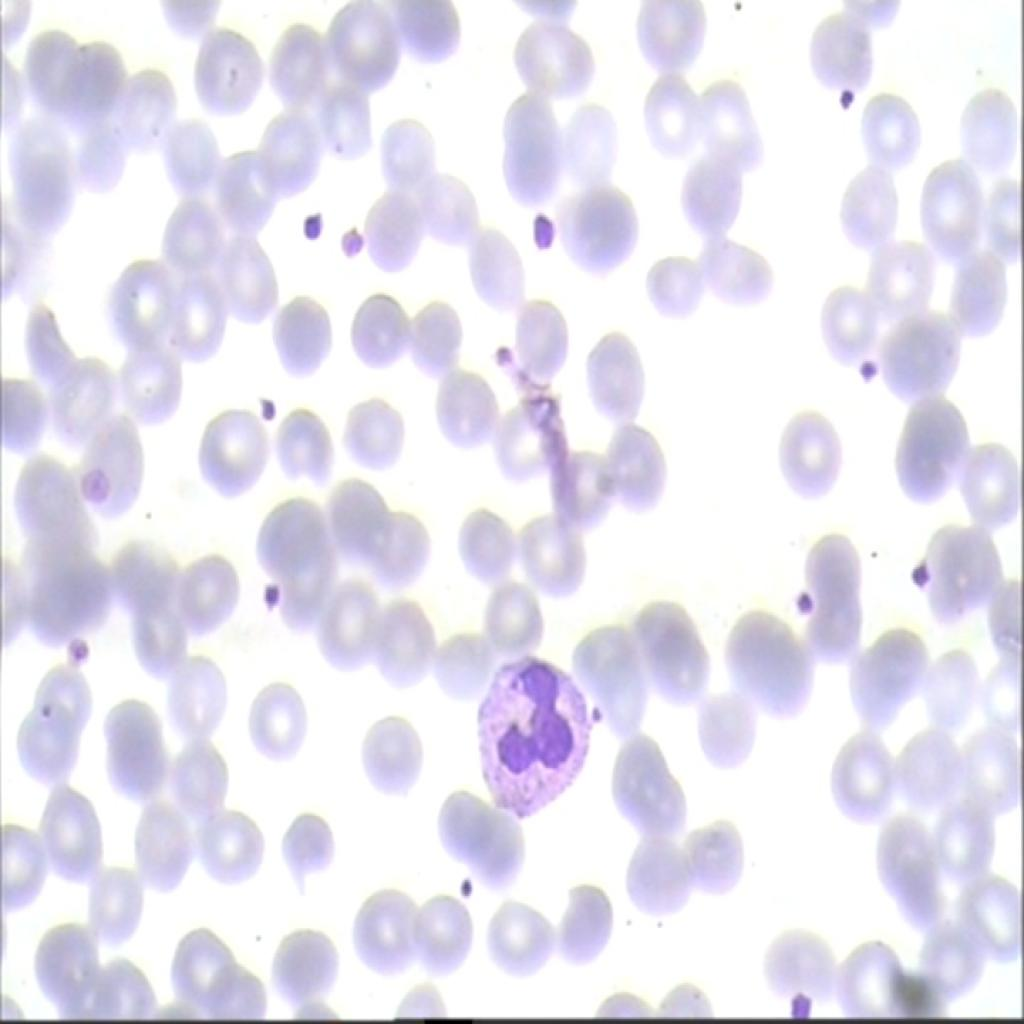Neutrofil: (471, 647, 589, 827)
Platelet: (54, 620, 97, 684), (244, 562, 284, 622), (74, 473, 112, 519), (530, 206, 559, 258), (336, 218, 372, 258), (445, 866, 472, 919), (906, 553, 934, 603), (855, 346, 887, 388), (299, 192, 324, 245), (792, 578, 822, 620), (788, 985, 821, 1022), (579, 697, 616, 727), (833, 75, 859, 117), (258, 388, 288, 416)
